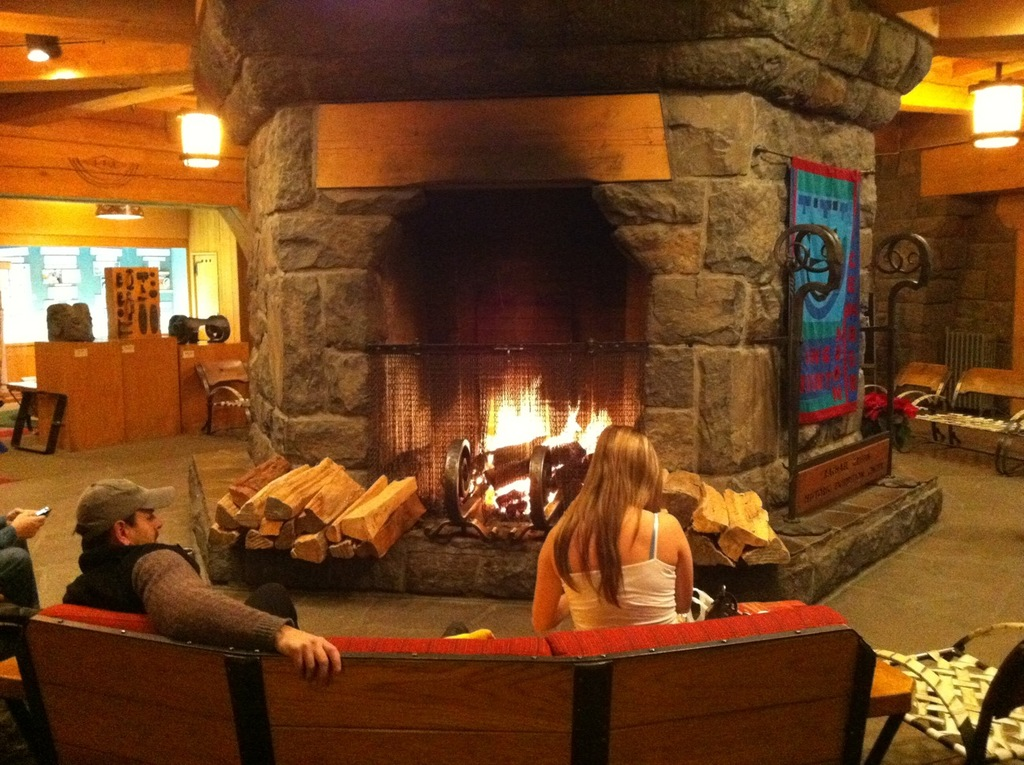Couch: (0, 597, 882, 764)
